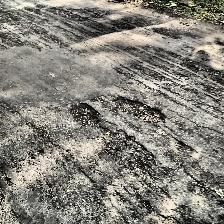pothole: (100, 129, 156, 171), (111, 95, 167, 123), (69, 102, 101, 127)
